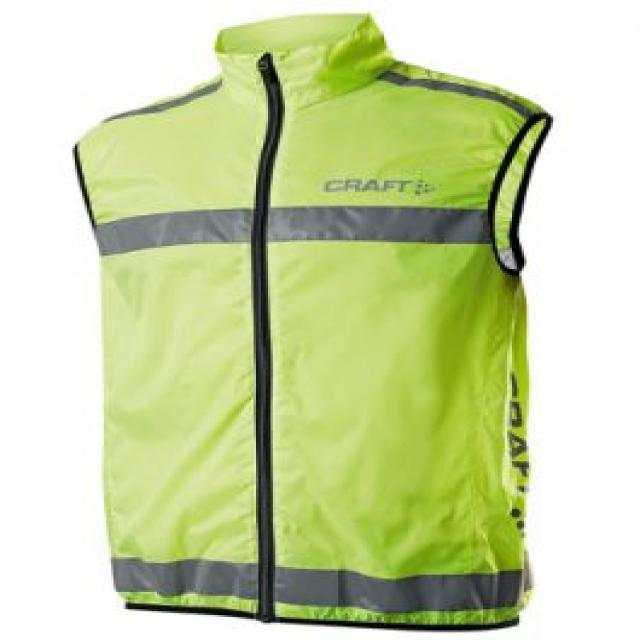construction-vest: (68, 11, 554, 634)
